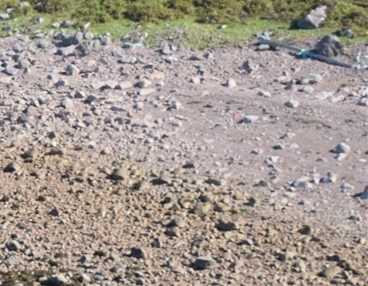straight_bar: (254, 30, 357, 70)
